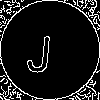J: (25, 25, 55, 74)
